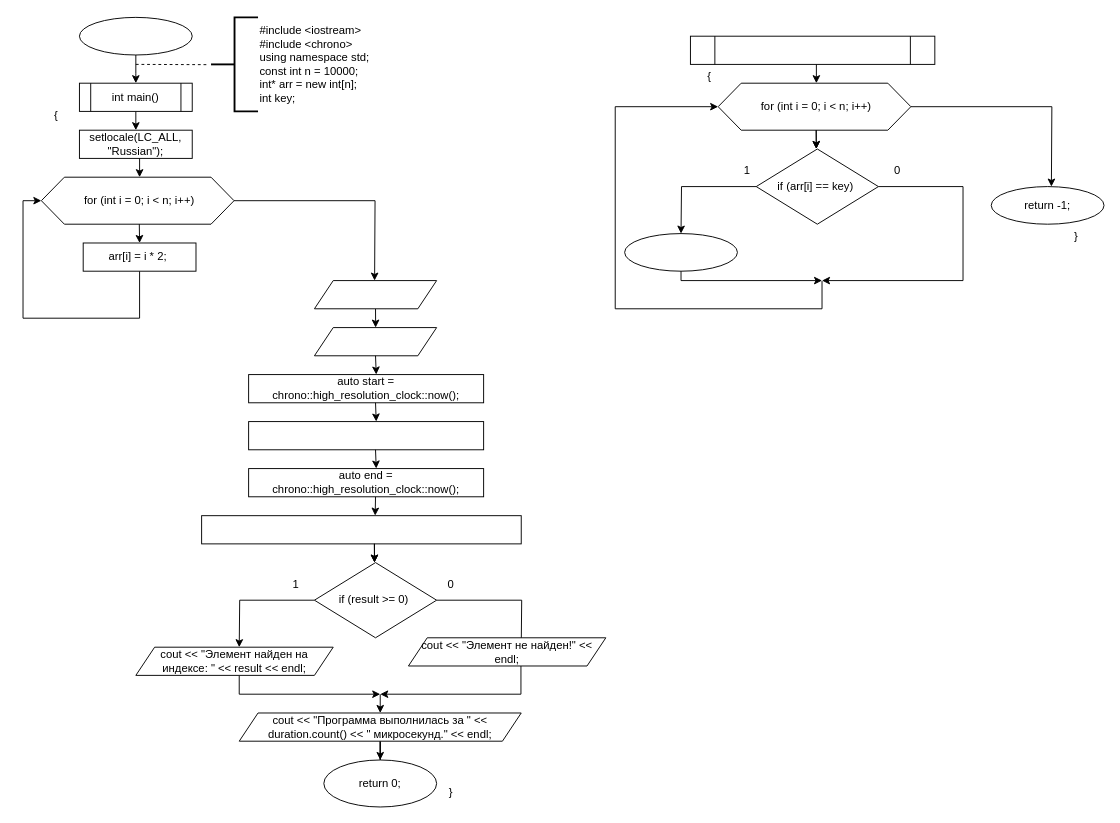
This 1120x823 diagram has some shape labels left out. The centre of each missing label's shape, as x and y in pixels:
auto duration = chrono::duration_cast<chrono::microseconds>(end - start);: (x=361, y=529)
cin >> key;: (x=375, y=341)
cout << "Введите элемент: ";: (x=375, y=294)
int linearSearch(int arr[], int n, int key): (x=812, y=49)
int result = interpolationSearch(arr, n, key);: (x=366, y=435)
return i;: (x=680, y=252)
Начало: (x=135, y=35)
